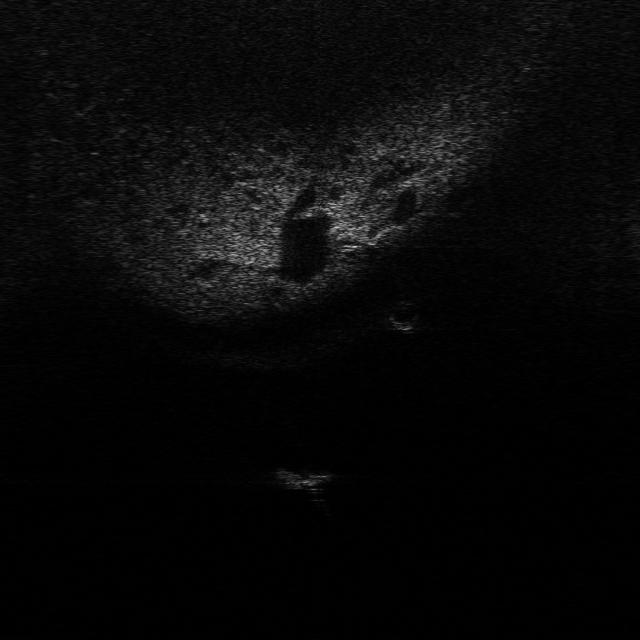ball: (384, 298, 422, 330)
cube: (270, 465, 336, 492)
